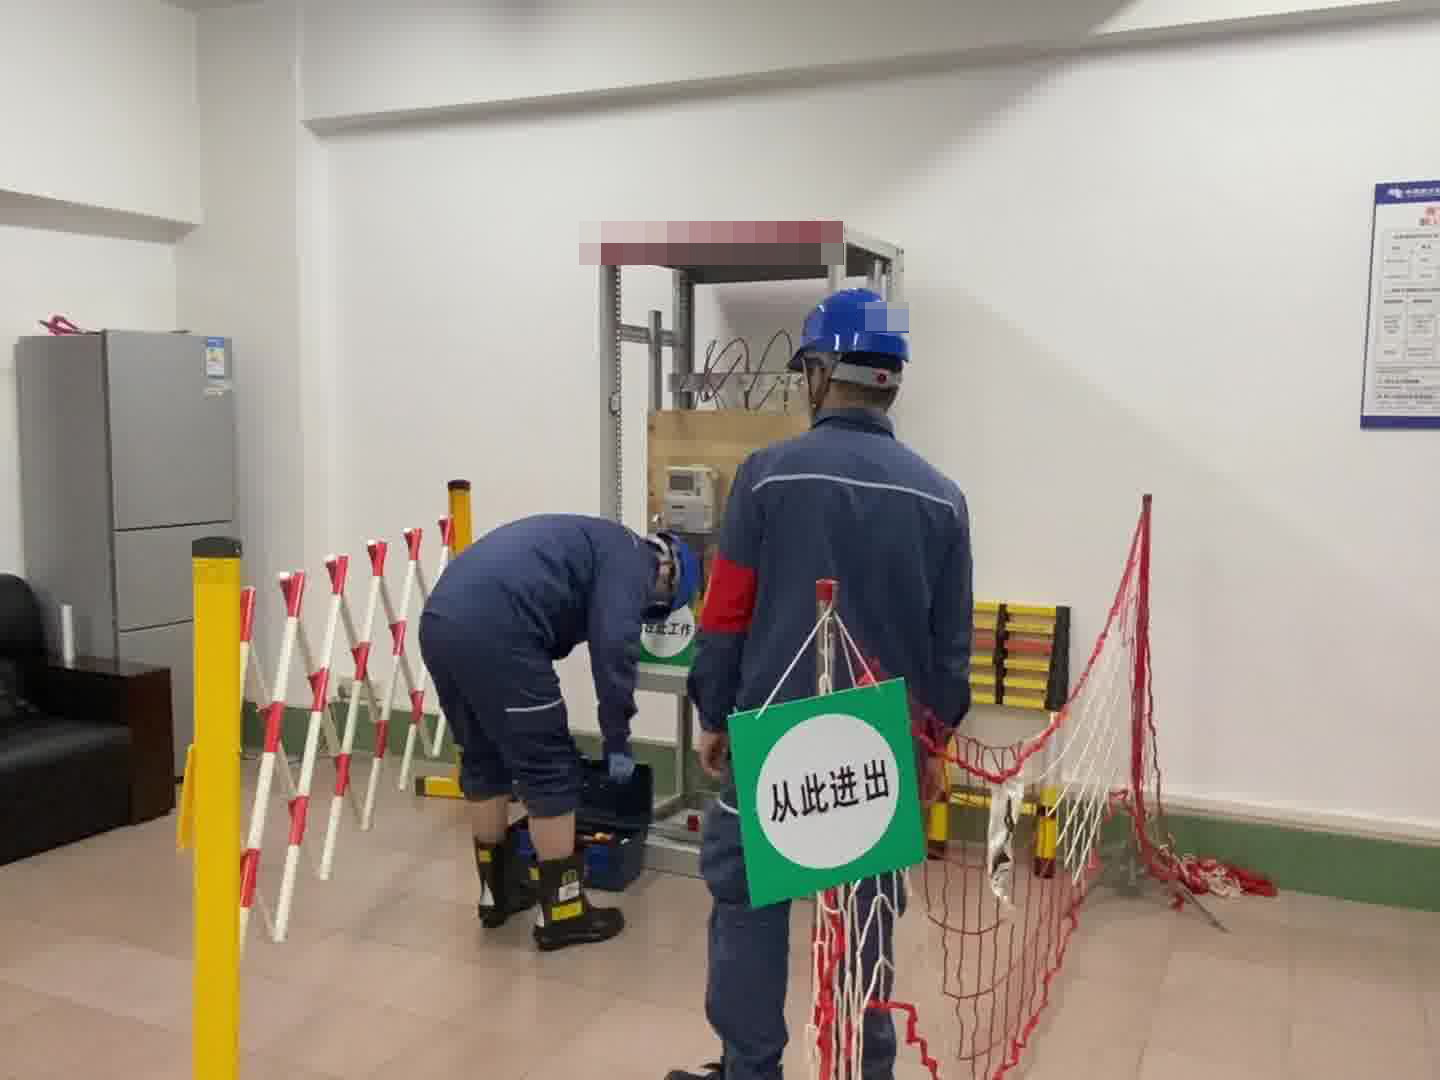badge: (697, 553, 762, 640)
downsuit: (697, 767, 794, 1053), (428, 645, 577, 812)
glove: (600, 730, 642, 790)
halt: (788, 286, 914, 416), (642, 530, 693, 623)
hand: (693, 728, 730, 775)
inear: (796, 356, 835, 406)
intosign: (723, 676, 928, 912)
person: (687, 278, 984, 1080), (422, 509, 691, 953)
shoe: (532, 860, 627, 943), (475, 842, 540, 930)
upsuit: (687, 411, 978, 710), (426, 512, 658, 649)
worksign: (634, 592, 701, 671)
wrongbottom: (507, 715, 577, 850), (447, 725, 507, 845)
